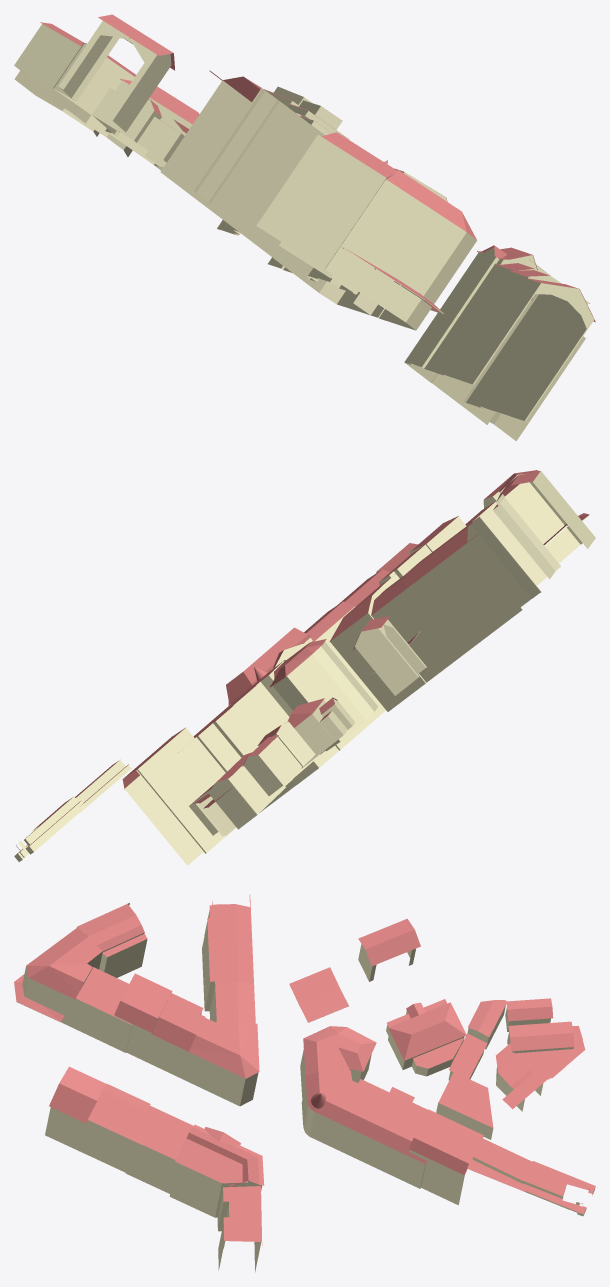
File: tile_002.glb
The picture shows the model from 3 angles, top to bottom: view 1: azimuth 30°, elevation 25°; view 2: azimuth 150°, elevation 25°; view 3: azimuth 270°, elevation 25°; orthographic projection. The views are drawn at different scales.
Parts seen in each view (by area): view 1: Batched_Building_ID_CA834FC4-E8D0-4C0B-B661-F6CD03988058, Batched_Building_ID_05CA0A01-E9E8-4882-A73B-9396C2E055CE; view 2: Batched_Building_ID_CA834FC4-E8D0-4C0B-B661-F6CD03988058, Batched_Building_ID_05CA0A01-E9E8-4882-A73B-9396C2E055CE; view 3: Batched_Building_ID_05CA0A01-E9E8-4882-A73B-9396C2E055CE, Batched_Building_ID_CA834FC4-E8D0-4C0B-B661-F6CD03988058.
Boxes of the visible parts, x1,y1,x2,y2 form: Batched_Building_ID_CA834FC4-E8D0-4C0B-B661-F6CD03988058: (14,21,594,441); Batched_Building_ID_05CA0A01-E9E8-4882-A73B-9396C2E055CE: (40,14,595,322); Batched_Building_ID_CA834FC4-E8D0-4C0B-B661-F6CD03988058: (14,471,595,865); Batched_Building_ID_05CA0A01-E9E8-4882-A73B-9396C2E055CE: (15,470,589,855); Batched_Building_ID_05CA0A01-E9E8-4882-A73B-9396C2E055CE: (14,894,595,1246); Batched_Building_ID_CA834FC4-E8D0-4C0B-B661-F6CD03988058: (15,903,595,1272).
Bounding box in the file's own units: 105 × 102 × 188.
